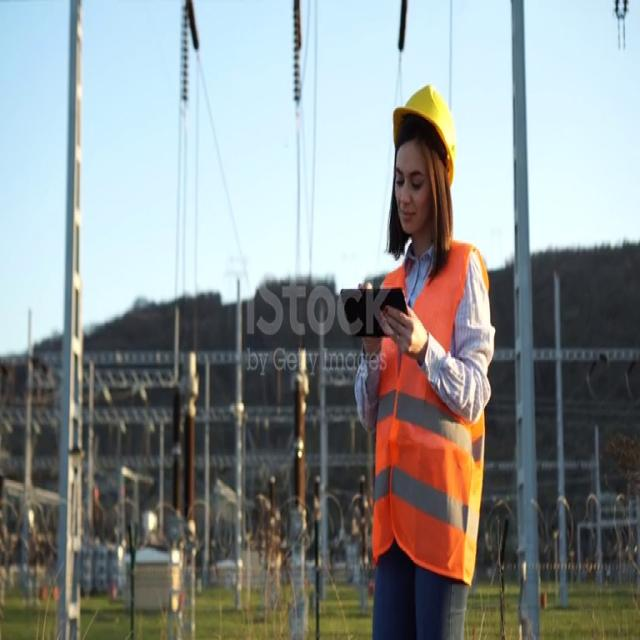capacete: (386, 58, 460, 193)
